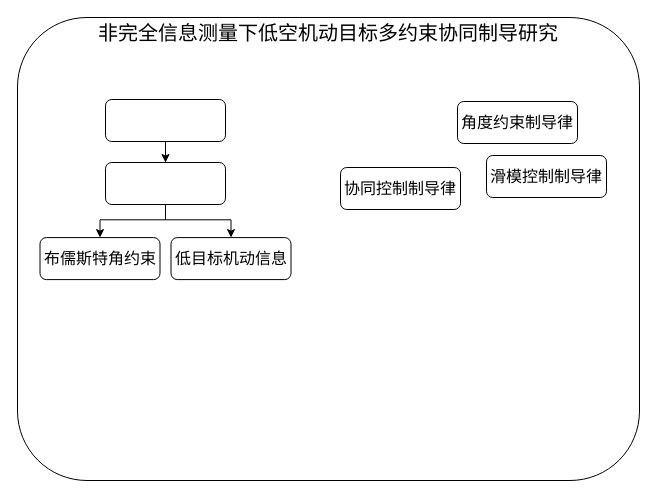
This 657x498 diagram has some shape labels left out. Each missing label, with the centre of its shape:
低空拦截: the point at 165,120
信息测量有限: the point at 165,183
